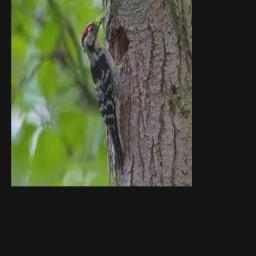Woodpecker: (82, 16, 129, 172)
